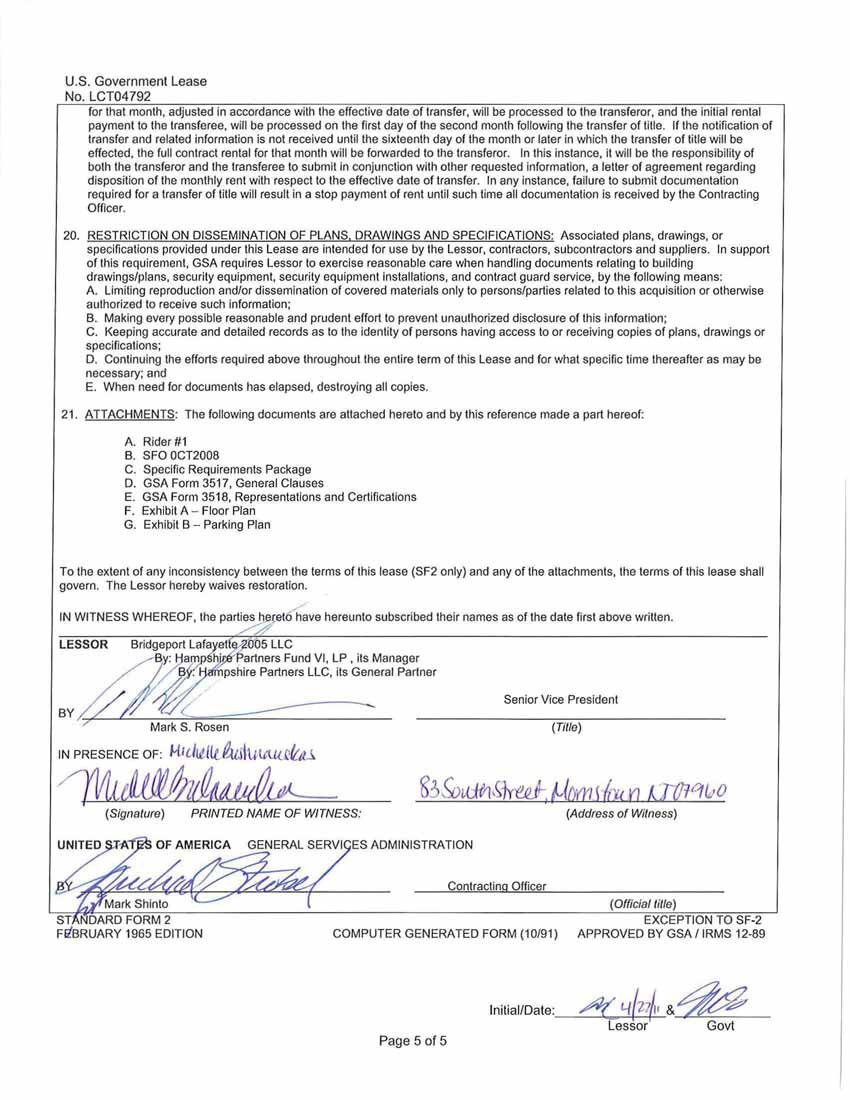handwritten: (45, 838, 365, 908), (72, 648, 381, 719), (408, 761, 734, 804), (51, 758, 353, 804), (581, 974, 753, 1017), (163, 735, 340, 770)
